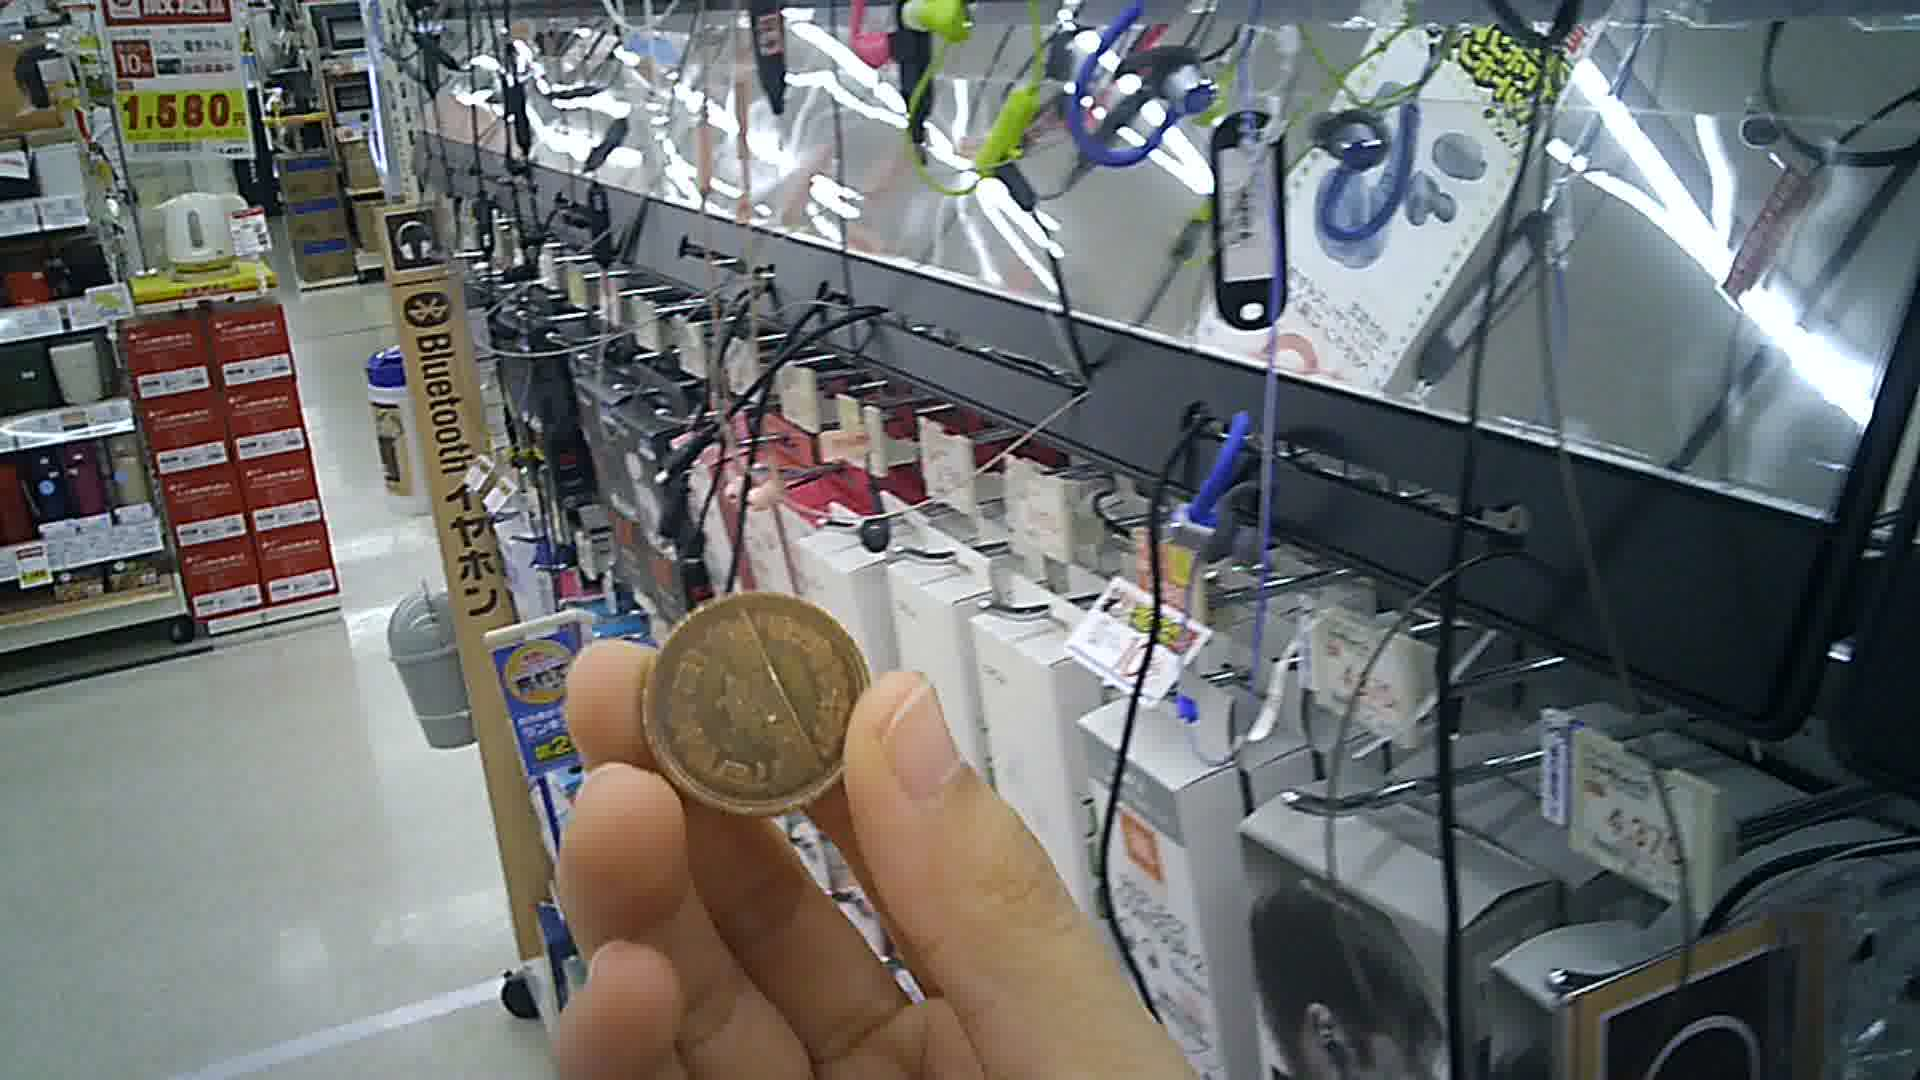10 Yen: (640, 588, 872, 811)
